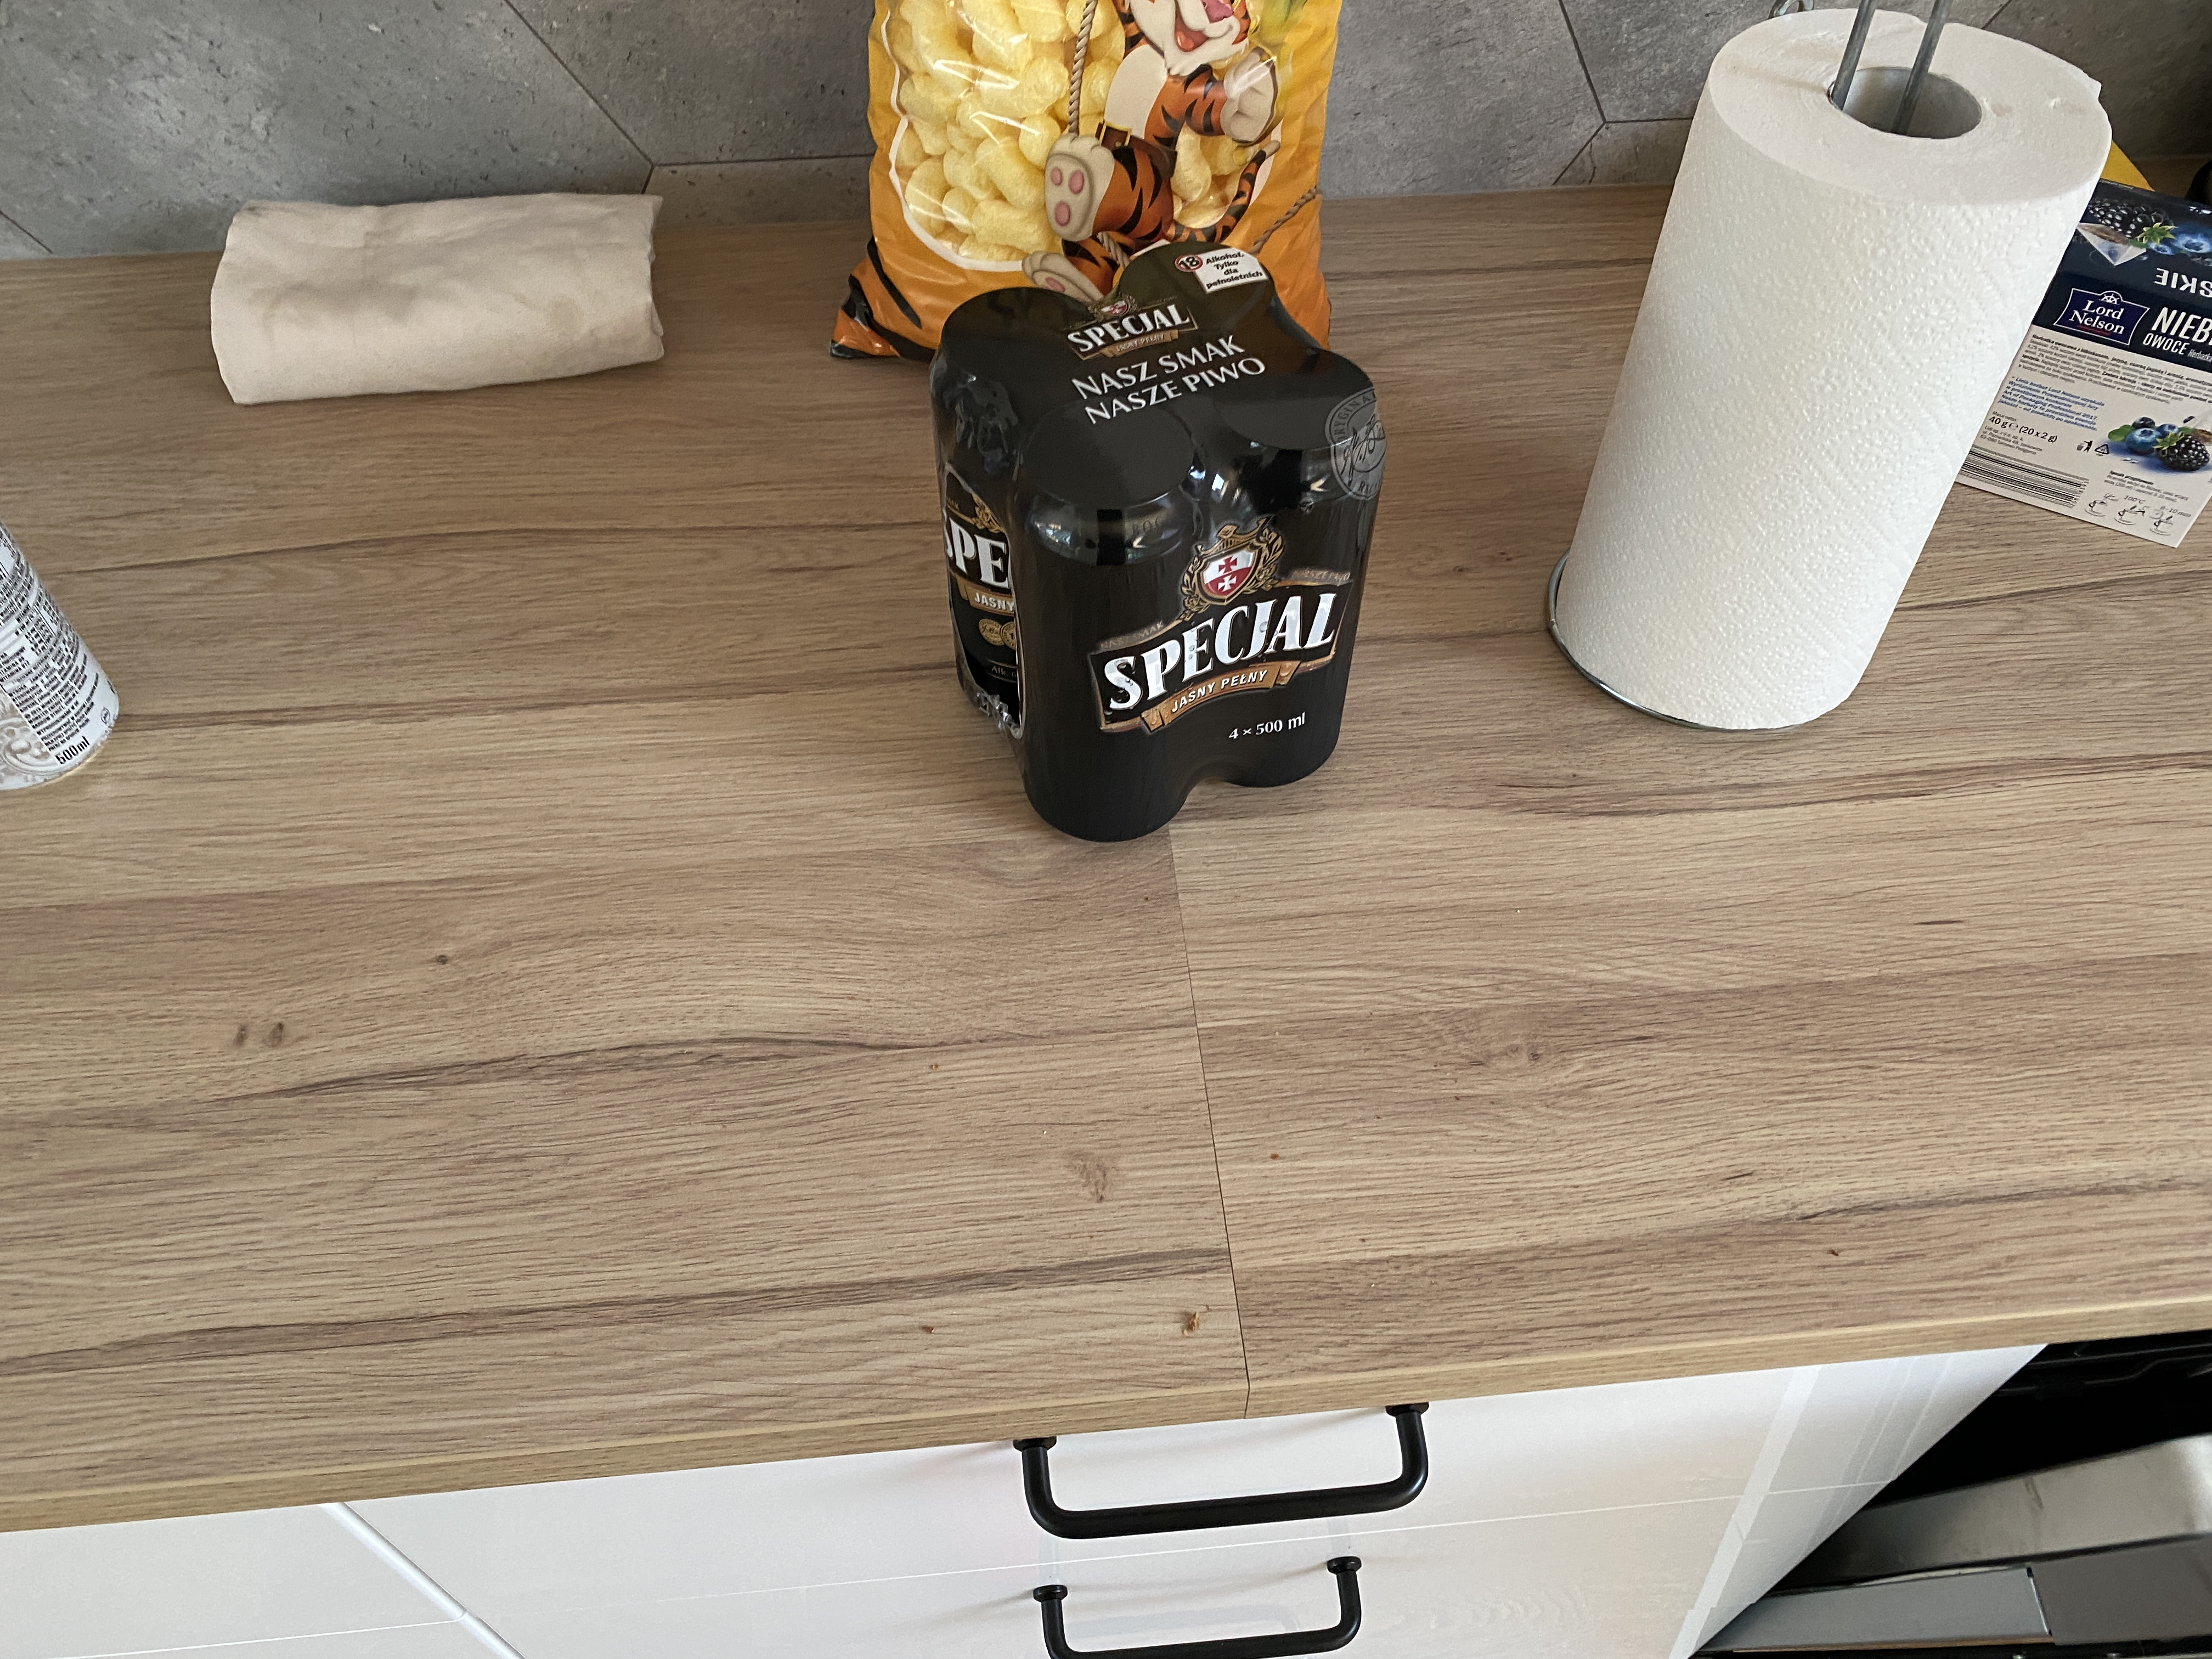specjal: (927, 239, 1386, 845)
